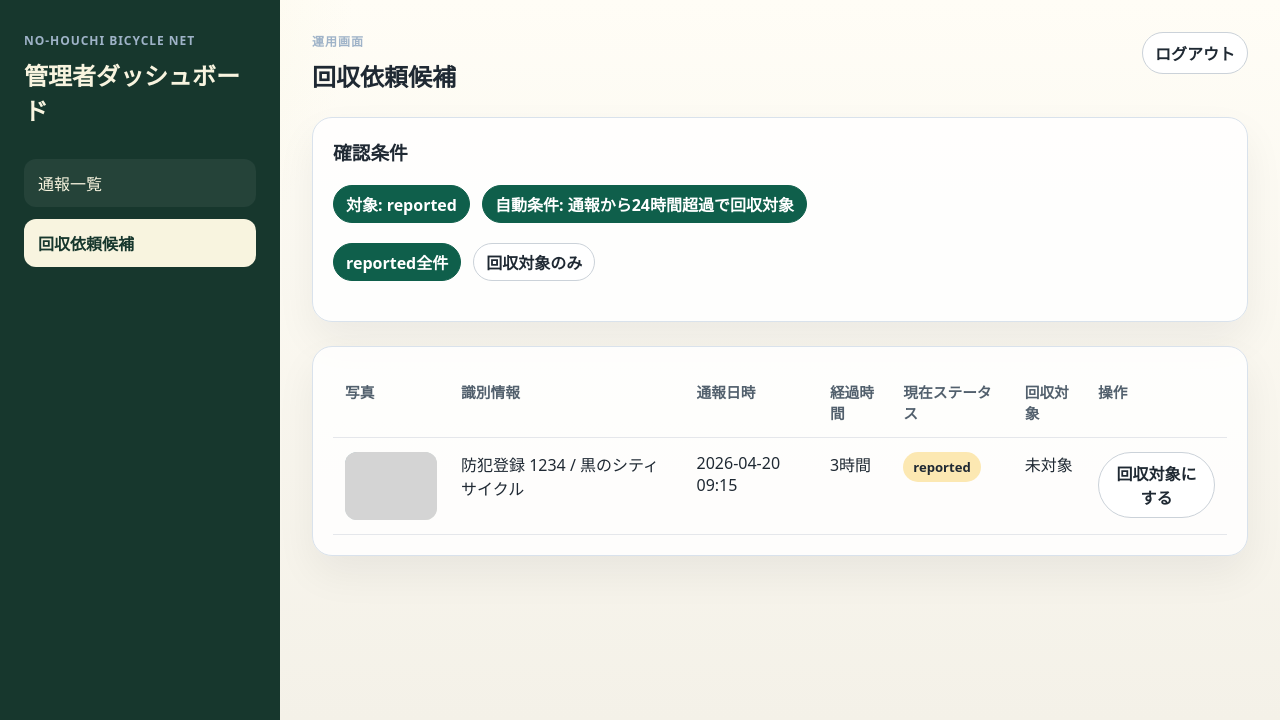
Test: Admin Dashboard pages › updates a report as collection candidate from the unresolved page
Click the button "回収対象にする" at (1156, 485), box [1098,452,1215,518]
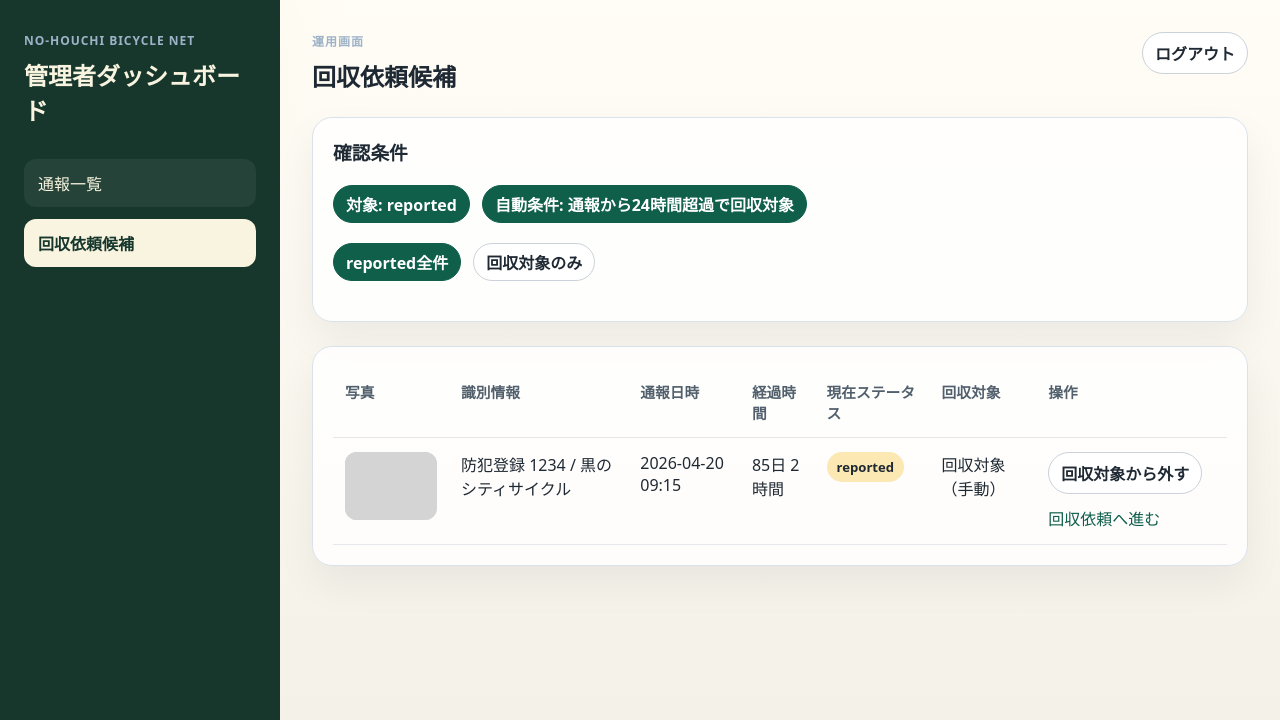
Now the text "回収対象（手動）" is shown, box [930,438,1036,544]
